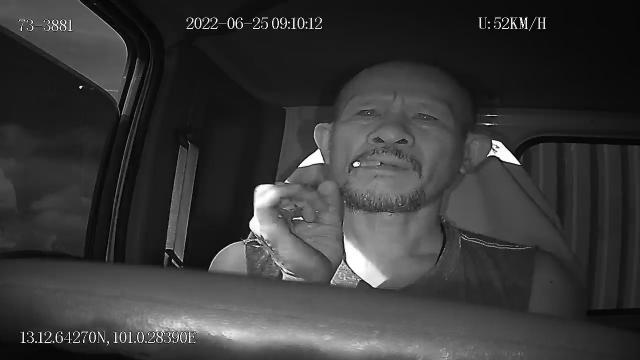SafeDriving: (403, 100, 446, 131), (348, 100, 388, 126)
Smoking: (351, 160, 381, 170)
